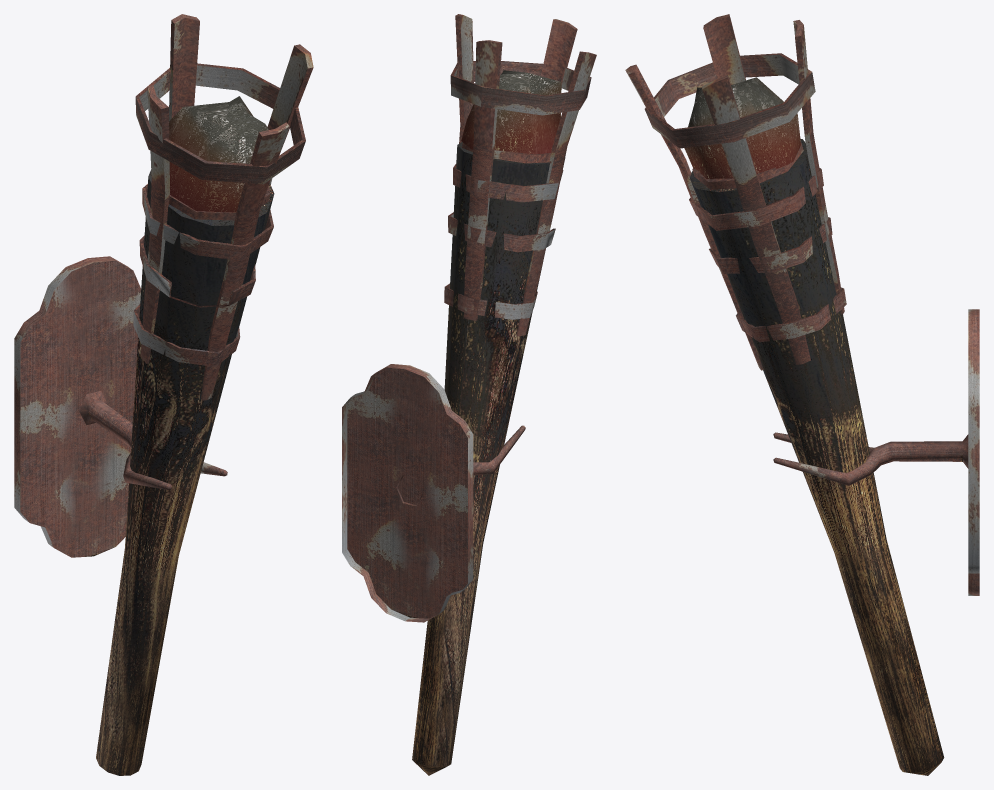
Rendered from 005_taimatu_02_06.fbx.
3 views of the same model, side by side, from view 1: azimuth 30°, elevation 25°; view 2: azimuth 150°, elevation 25°; view 3: azimuth 270°, elevation 25° (orthographic). The views are drawn at different scales.
Visible parts, largest first — view 1: Line002; view 2: Line002; view 3: Line002.
Part boxes in pixels (x1,y1,x2,y2): Line002: (14,14,313,775); Line002: (342,14,596,775); Line002: (625,14,979,775).
Size of what is drawn, in the model's own units: 807 by 3916 by 1674.
